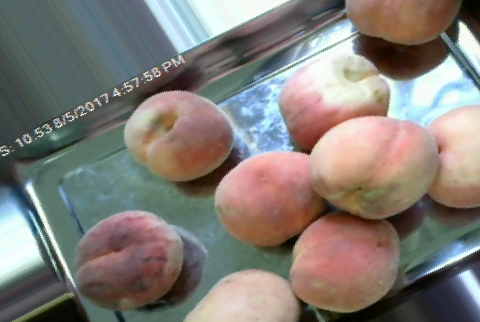Peach: (307, 115, 438, 219), (287, 211, 399, 313), (75, 210, 186, 311), (215, 150, 328, 247), (279, 50, 393, 146), (126, 91, 234, 182), (426, 107, 479, 210)
